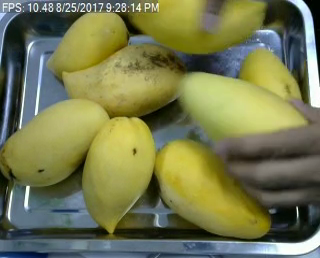Mango: (154, 139, 273, 240), (0, 99, 111, 186), (181, 72, 309, 144), (62, 44, 186, 118), (81, 116, 155, 232), (126, 1, 268, 54), (46, 12, 128, 80), (237, 49, 305, 108)
